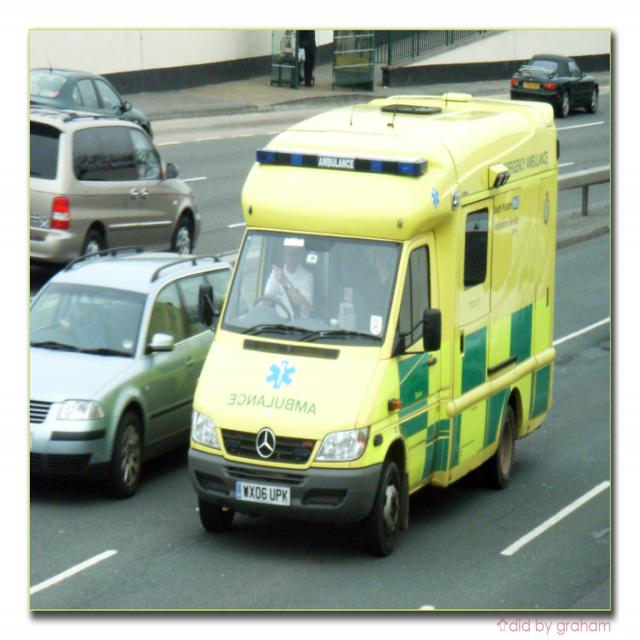Ambulance: (187, 64, 558, 556)
